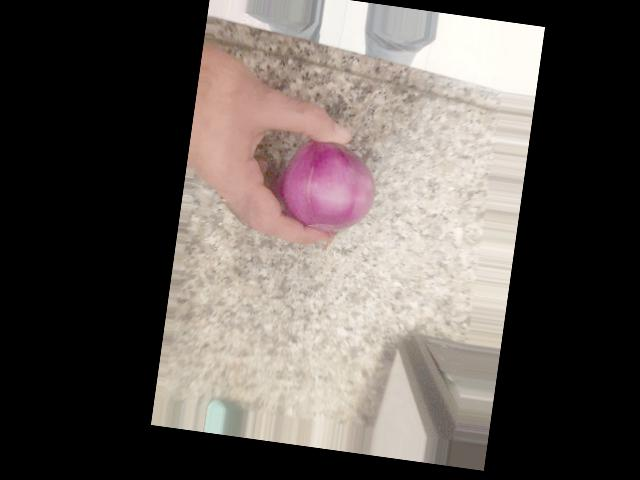onion: (369, 226, 464, 320)
